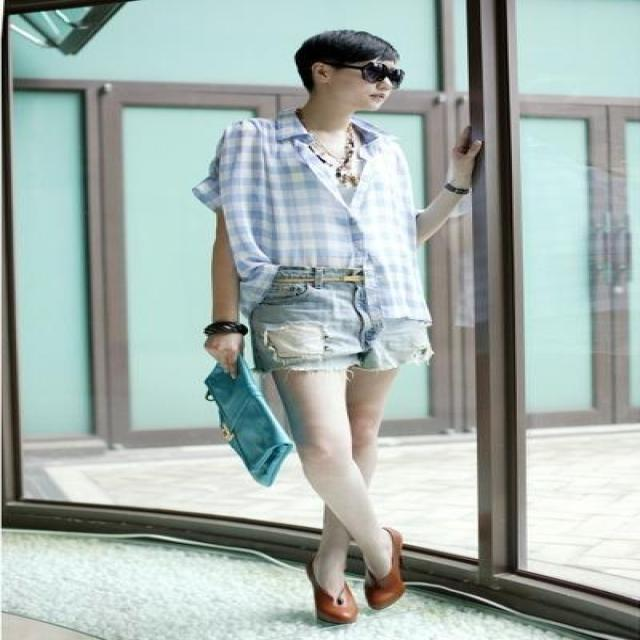bag: (205, 358, 291, 472)
shirt: (192, 98, 430, 319)
shoe: (309, 557, 443, 626)
skirt: (250, 270, 432, 391)
sunglass: (344, 44, 402, 86)
